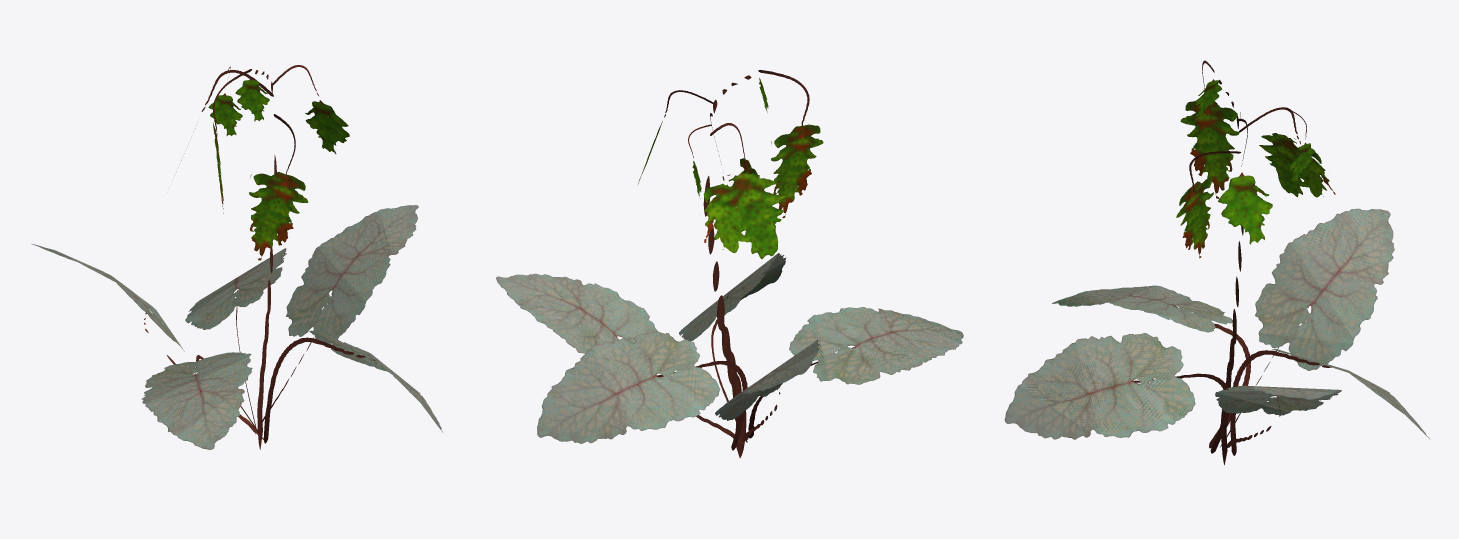
The model's file is Spin Reef D4.fbx.
3 views of the same model, side by side, from view 1: azimuth 30°, elevation 25°; view 2: azimuth 150°, elevation 25°; view 3: azimuth 270°, elevation 25° (orthographic).
Parts seen in each view (by area): view 1: Spin Reef D4; view 2: Spin Reef D4; view 3: Spin Reef D4.
Part boxes in pixels (x1=…): Spin Reef D4: x1=31, y1=65, x2=442, y2=449; Spin Reef D4: x1=496, y1=70, x2=963, y2=457; Spin Reef D4: x1=1004, y1=60, x2=1430, y2=465.
Bounding box in the file's own units: 159 × 208 × 167.
